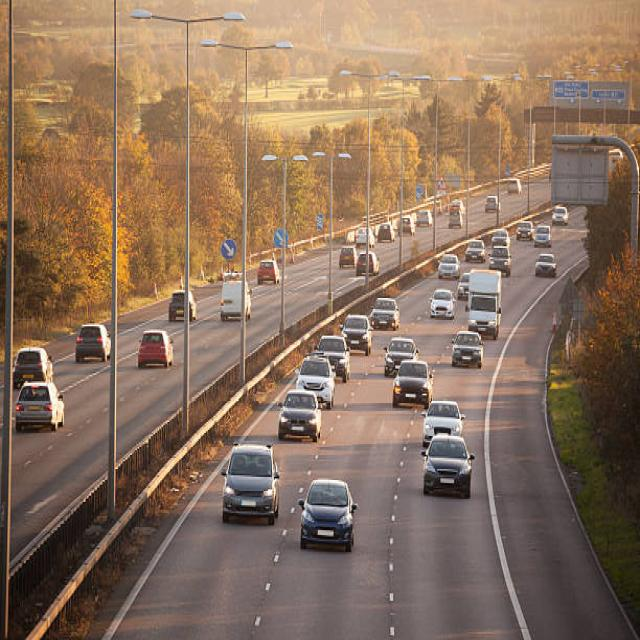Car: (220, 441, 280, 524), (298, 477, 358, 552), (420, 433, 475, 497), (14, 379, 64, 432), (420, 398, 466, 448), (277, 389, 321, 441), (12, 345, 52, 389), (74, 323, 111, 362), (137, 329, 174, 367), (451, 329, 484, 367), (168, 288, 196, 322), (257, 259, 279, 284), (534, 253, 556, 276), (551, 204, 568, 224)
